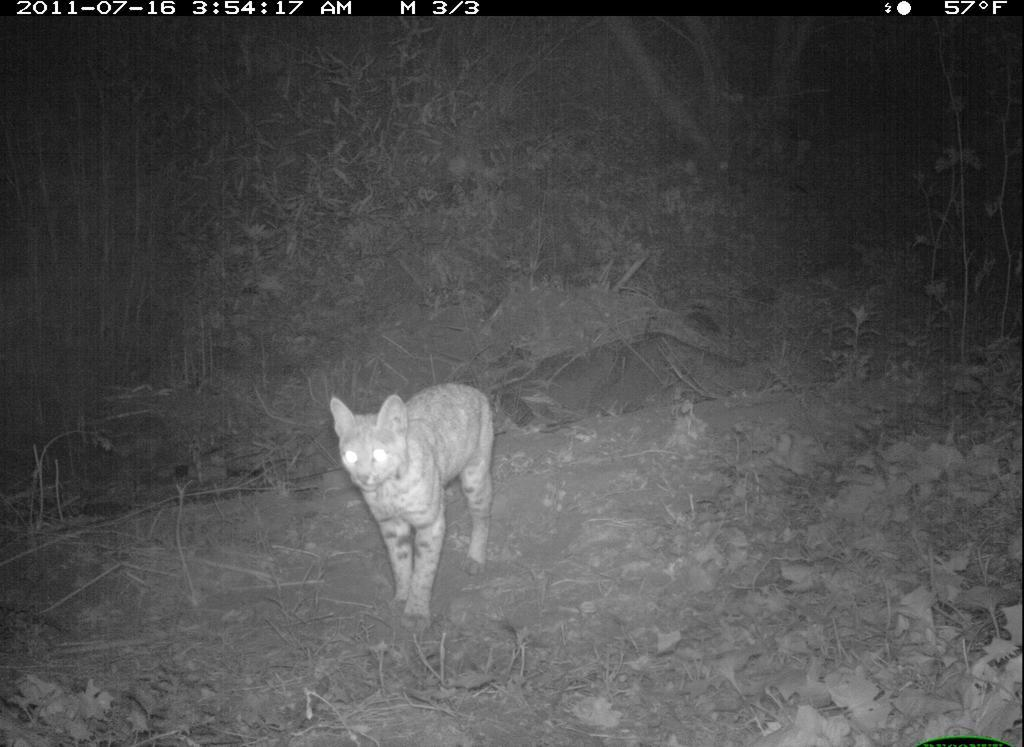bobcat: (323, 355, 513, 635)
